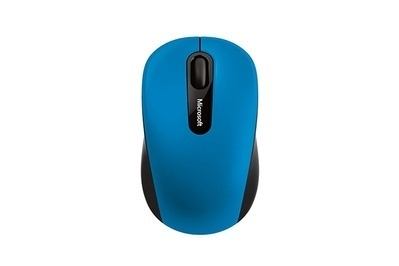mouse: (125, 32, 268, 236)
